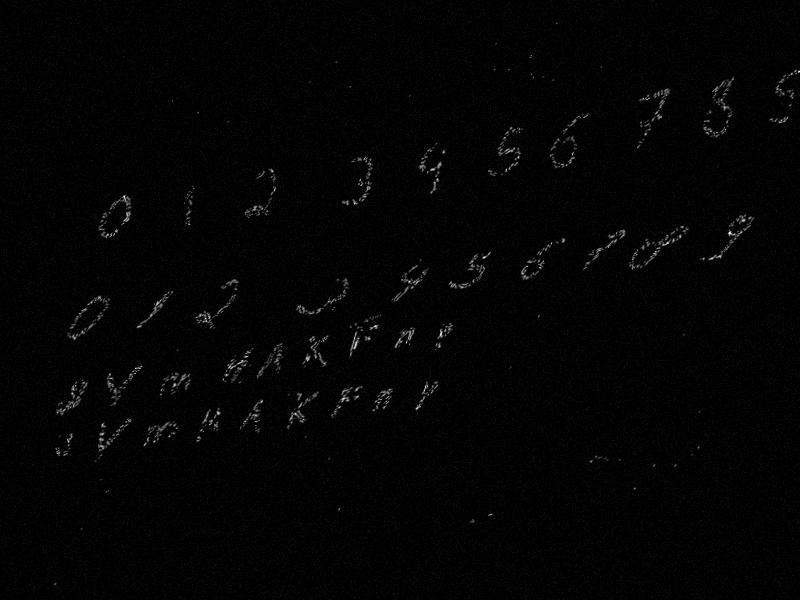0: (63, 289, 116, 343), (92, 191, 139, 242)
1: (129, 285, 178, 332), (170, 180, 204, 231)
2: (188, 277, 243, 336), (238, 162, 288, 224)
3: (290, 272, 356, 321), (333, 150, 384, 210)
4: (404, 139, 454, 202), (385, 256, 436, 304)
5: (481, 122, 533, 182), (444, 249, 495, 292)
6: (539, 109, 595, 175), (515, 235, 568, 285)
7: (616, 85, 676, 154), (577, 226, 629, 274)
8: (621, 213, 695, 276), (691, 71, 749, 145)
9: (692, 210, 760, 270), (758, 64, 800, 131)
A: (255, 339, 290, 381), (236, 396, 270, 439)
F: (327, 382, 365, 423), (345, 320, 381, 361)
H: (219, 345, 256, 387), (194, 404, 225, 443)
V: (85, 414, 135, 467), (94, 363, 145, 411)
k: (282, 386, 323, 432), (296, 330, 337, 374)
m: (152, 368, 197, 402), (139, 417, 183, 451)
n: (391, 324, 418, 353), (368, 386, 395, 415)
p: (412, 377, 441, 414), (430, 320, 457, 353)
u: (46, 375, 93, 424), (47, 428, 79, 462)
